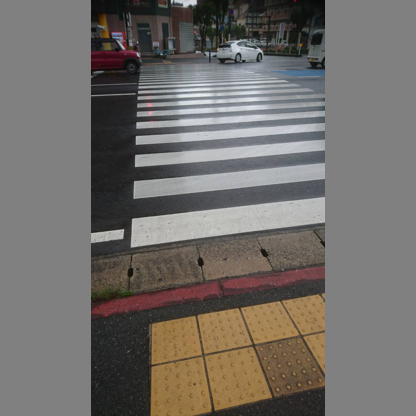brailleblock: (198, 313, 255, 404), (249, 304, 303, 393), (151, 324, 203, 416), (293, 298, 323, 384)
crosswalk: (136, 151, 324, 230), (139, 91, 323, 149)
